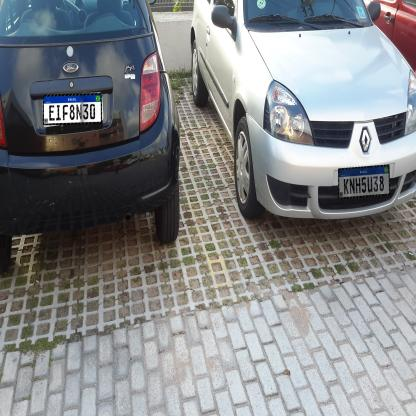PlacaM: (43, 93, 102, 125), (338, 165, 390, 199)
